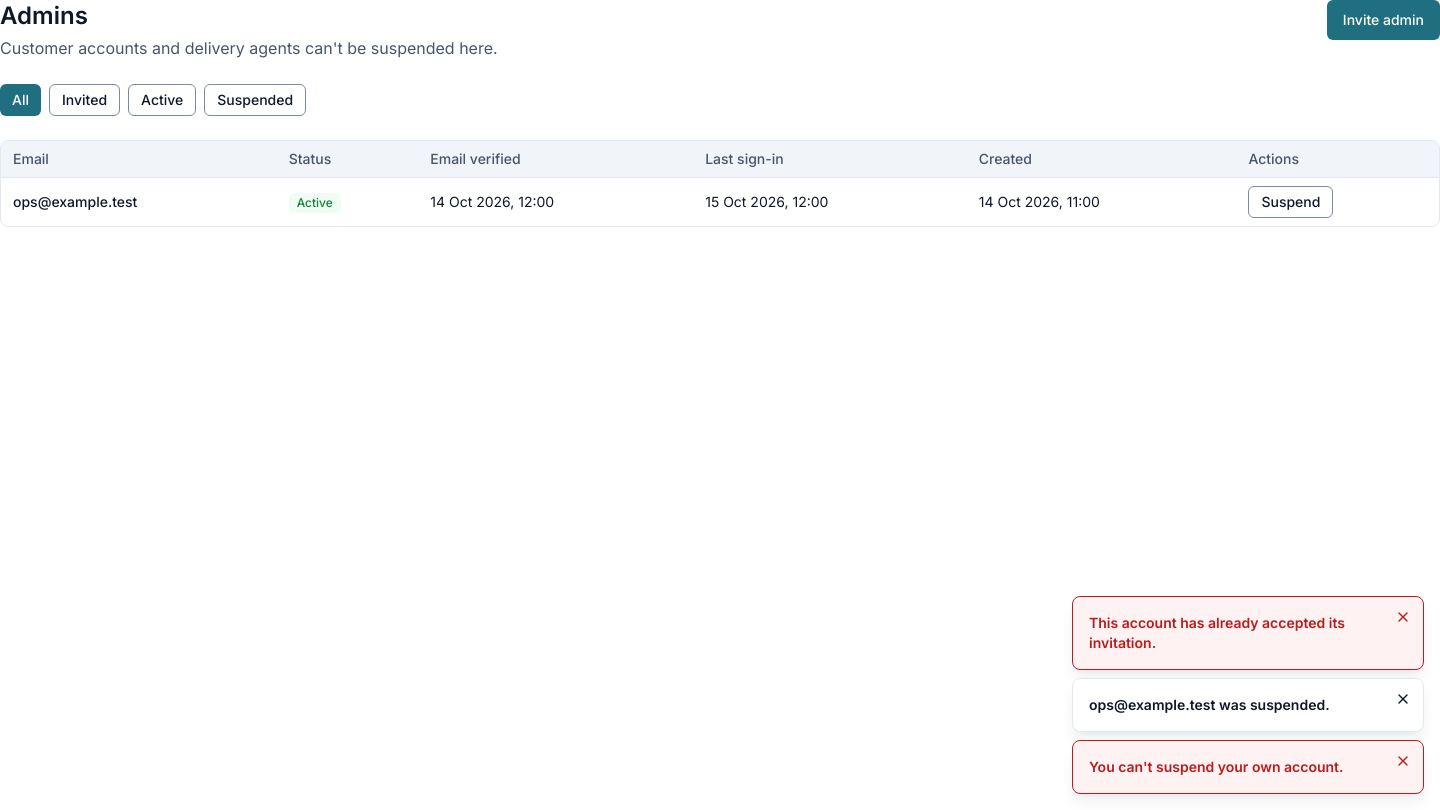
Test: admins (spec 03 AD-03) › suspend refused with USER_INVALID_STATUS_TRANSITION: closes, explains, refetches
Click the button "Suspend": point(1291, 202) [1248, 186, 1333, 218]
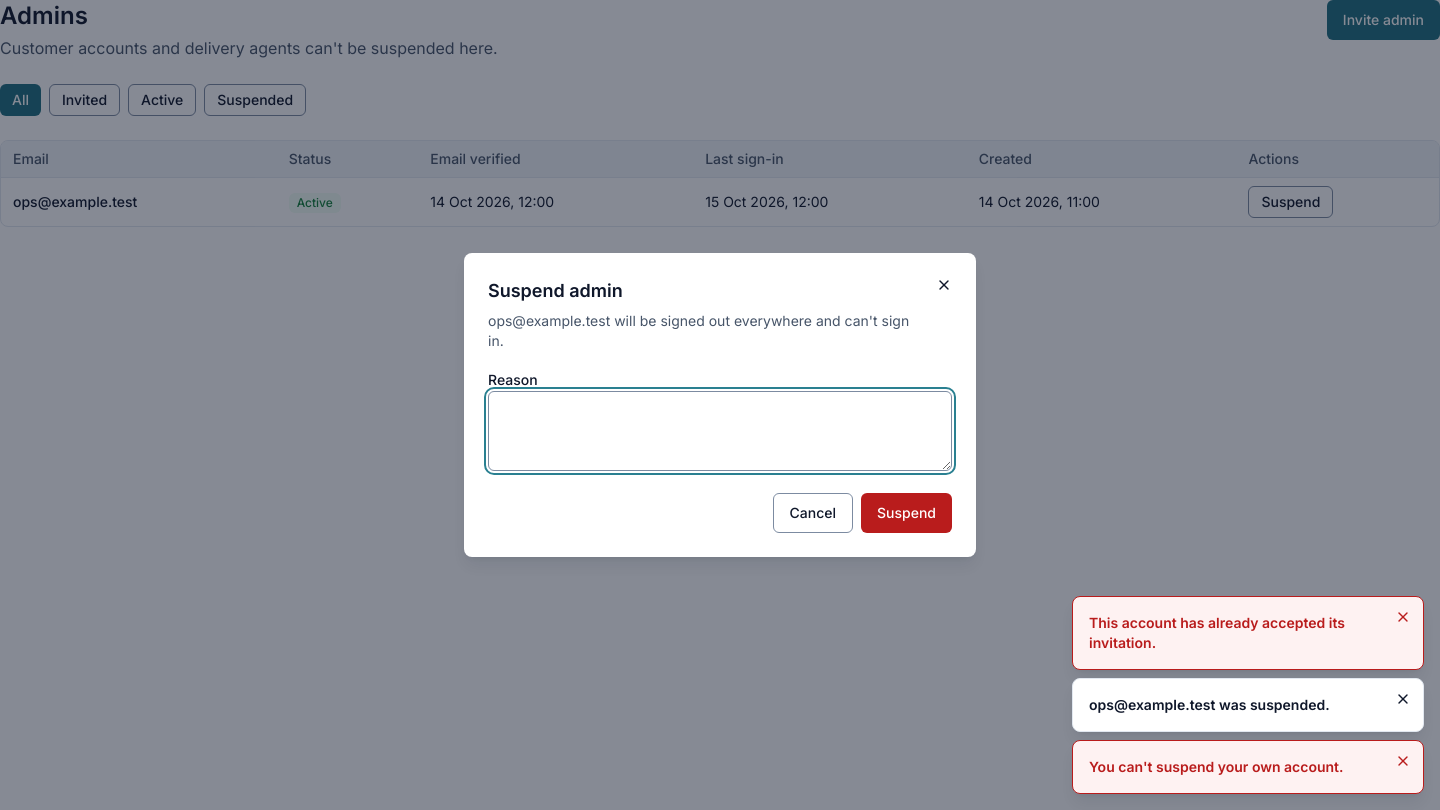
In the text box labelled "Reason": point(720, 431) [488, 391, 952, 471], type "Security review"
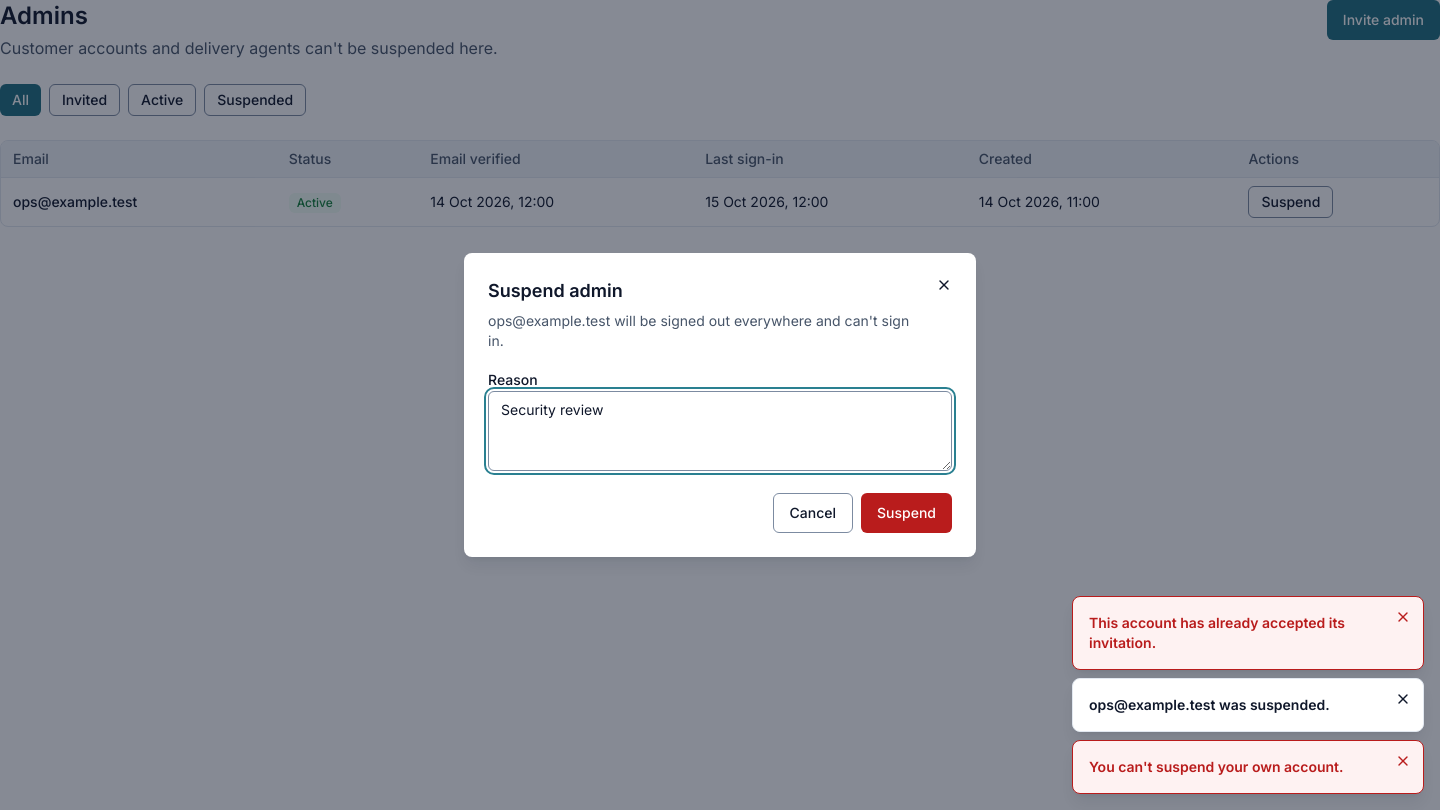
Click the button "Suspend": point(906, 513) [861, 493, 952, 533]
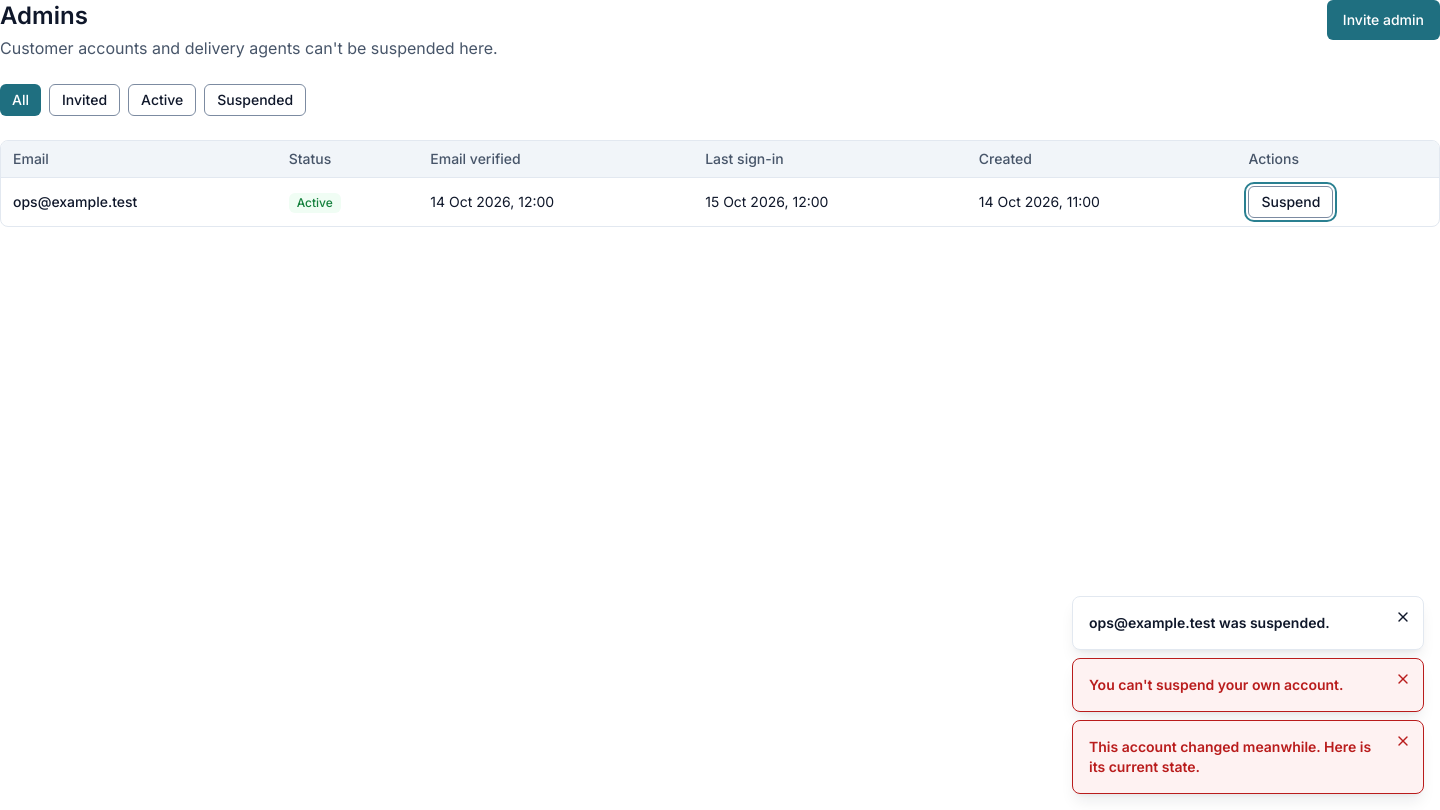
Check: the text "This account changed meanwhile. Here is its current state." is shown, box [1089, 737, 1383, 777]
Check: the dialog is gone
